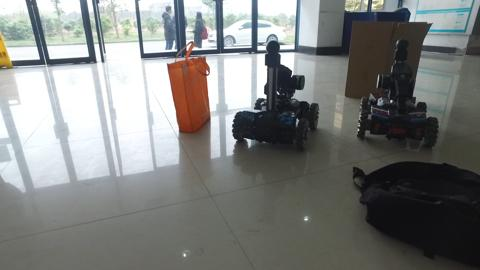bag: (168, 38, 207, 131)
chariot: (227, 42, 322, 146), (355, 39, 440, 147)
